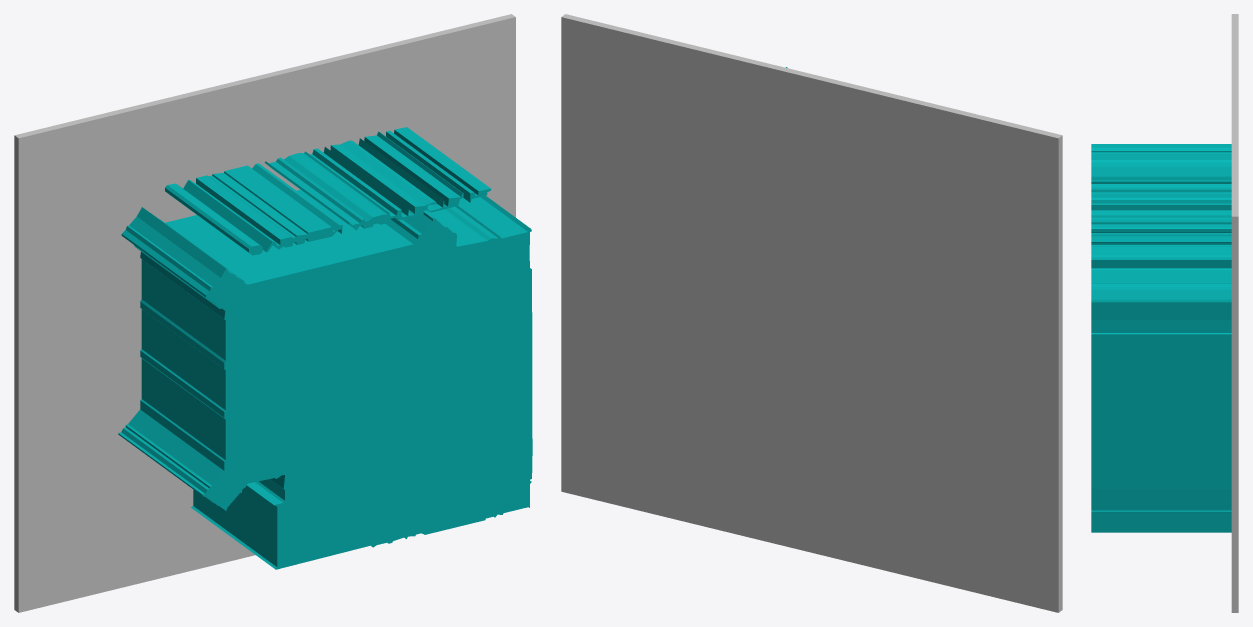
The picture shows the model from 3 angles, left to right: view 1: azimuth 30°, elevation 25°; view 2: azimuth 150°, elevation 25°; view 3: azimuth 270°, elevation 25°; orthographic projection. The views are drawn at different scales.
Visible parts, largest first — view 1: world; view 2: world; view 3: world.
Boxes of the visible parts, box(x1,y1,x2,y2) form: world: box(14, 14, 532, 612); world: box(561, 14, 1062, 612); world: box(1091, 14, 1238, 612).
Bounding box in the file's own units: 10.23 × 9.33 × 3.15.
